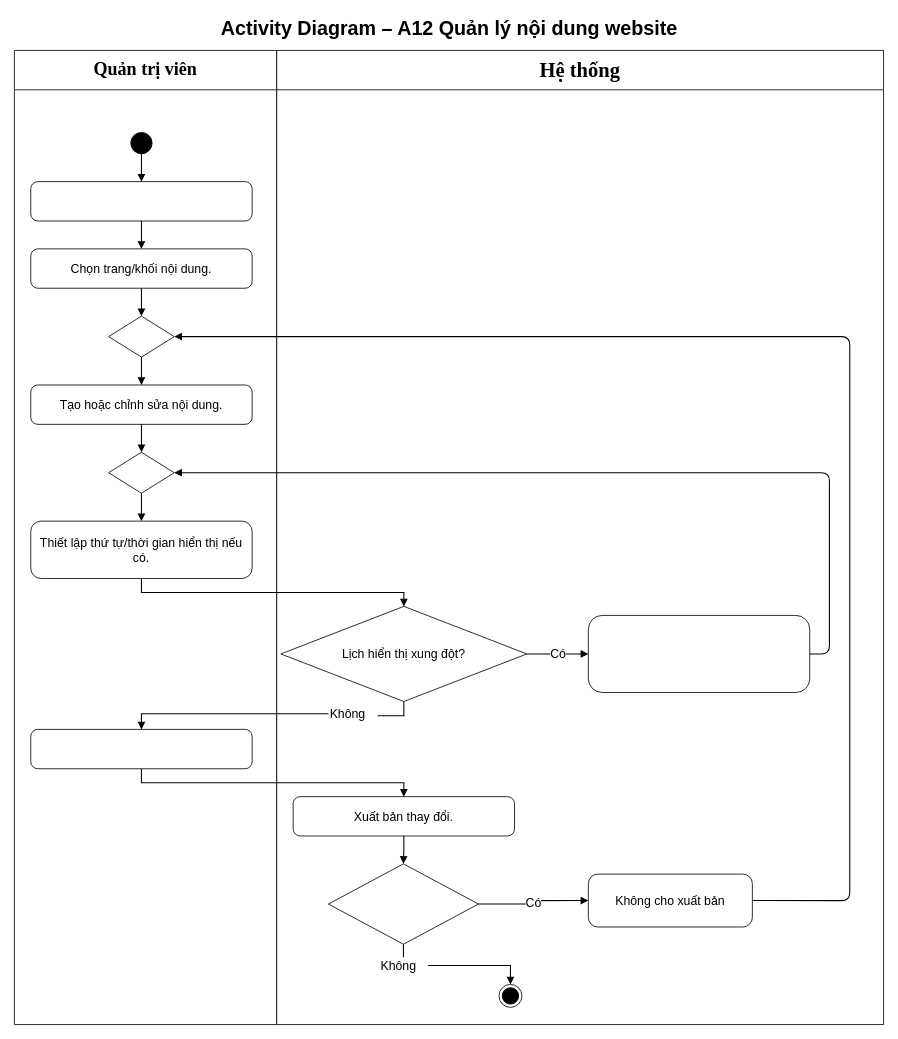
This 898x1039 diagram has some shape labels left out. The centre of each missing label's shape, as x and y in pixels:
"Mở CMS nội dung website." goes at (x=141, y=201).
"Nội dung thiếu hoặc liên kết lỗi?" goes at (x=403, y=903).
"Xem trước." goes at (x=141, y=749).
"Yêu cầu điều chỉnh thứ tự/thời gian hiển thị" goes at (x=699, y=653).
